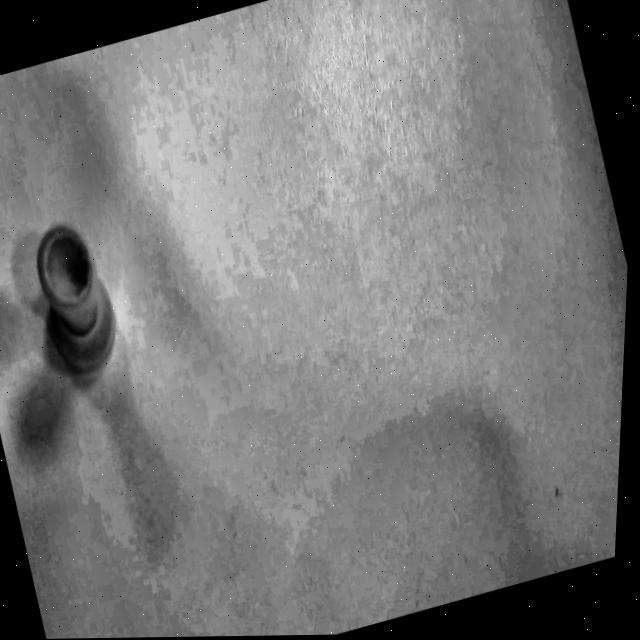white-rook: (0, 176, 158, 427)
